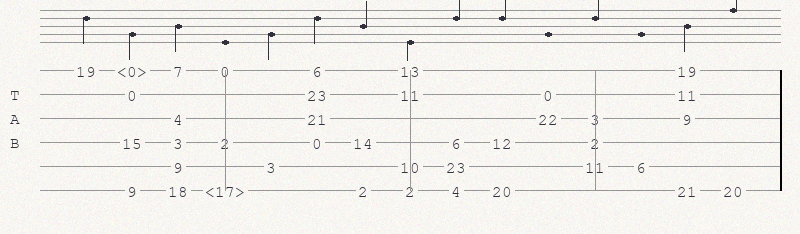0: (127, 87, 141, 101), (220, 63, 234, 77), (312, 135, 326, 149), (543, 87, 557, 101)
10: (400, 159, 424, 173)
11: (400, 87, 424, 101), (585, 159, 609, 173), (677, 87, 701, 101)
12: (492, 135, 516, 149)
13: (400, 63, 424, 77)
14: (353, 135, 377, 149)
15: (122, 135, 146, 149)
18: (168, 183, 192, 197)
19: (76, 63, 100, 77), (677, 63, 701, 77)
2: (220, 135, 234, 149), (358, 183, 372, 197), (405, 183, 419, 197), (590, 135, 604, 149)
20: (492, 183, 516, 197), (723, 183, 747, 197)
21: (307, 111, 331, 125), (677, 183, 701, 197)
22: (538, 111, 562, 125)
23: (307, 87, 331, 101), (446, 159, 470, 173)
3: (173, 135, 187, 149), (266, 159, 280, 173), (590, 111, 604, 125)
4: (173, 111, 187, 125), (451, 183, 465, 197)
6: (312, 63, 326, 77), (451, 135, 465, 149), (636, 159, 650, 173)
7: (173, 63, 187, 77)
9: (127, 183, 141, 197), (173, 159, 187, 173), (682, 111, 696, 125)
harmonic: (205, 183, 249, 198), (117, 63, 151, 78)
